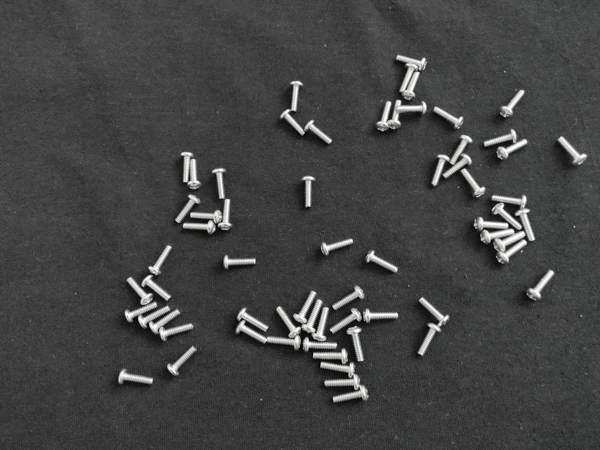shortscrew: (419, 297, 450, 328), (167, 346, 198, 377), (558, 137, 587, 168), (527, 271, 555, 302), (329, 309, 362, 335), (332, 286, 366, 311), (417, 324, 442, 358), (147, 245, 173, 277), (126, 277, 154, 306), (174, 195, 201, 225), (150, 309, 181, 335), (496, 241, 528, 266), (365, 250, 398, 274), (138, 306, 171, 330), (499, 90, 525, 120), (492, 203, 522, 229), (142, 275, 172, 301), (434, 106, 465, 131), (237, 307, 268, 332), (444, 154, 473, 180), (294, 291, 316, 325), (304, 120, 333, 145), (277, 307, 301, 337), (302, 300, 323, 334), (236, 321, 267, 344), (279, 109, 305, 136), (484, 130, 519, 150), (450, 135, 474, 164), (516, 210, 537, 243), (125, 303, 159, 323), (332, 386, 369, 404), (497, 140, 528, 161), (463, 170, 486, 198), (494, 232, 526, 252), (347, 327, 365, 362), (159, 324, 194, 342), (492, 195, 529, 212), (320, 238, 354, 256), (432, 154, 450, 187), (324, 375, 361, 391), (312, 308, 329, 342), (403, 71, 421, 103), (320, 363, 356, 379), (118, 370, 154, 386), (399, 63, 418, 93), (268, 334, 301, 351), (480, 230, 515, 246), (396, 55, 428, 72), (363, 310, 399, 325), (313, 350, 348, 365), (183, 220, 218, 235), (303, 338, 337, 353), (223, 256, 257, 271), (218, 199, 233, 233), (474, 217, 509, 231), (302, 175, 316, 207), (188, 159, 202, 191), (290, 82, 304, 113), (212, 169, 226, 200), (190, 211, 223, 224), (397, 102, 427, 116), (182, 152, 195, 184)
